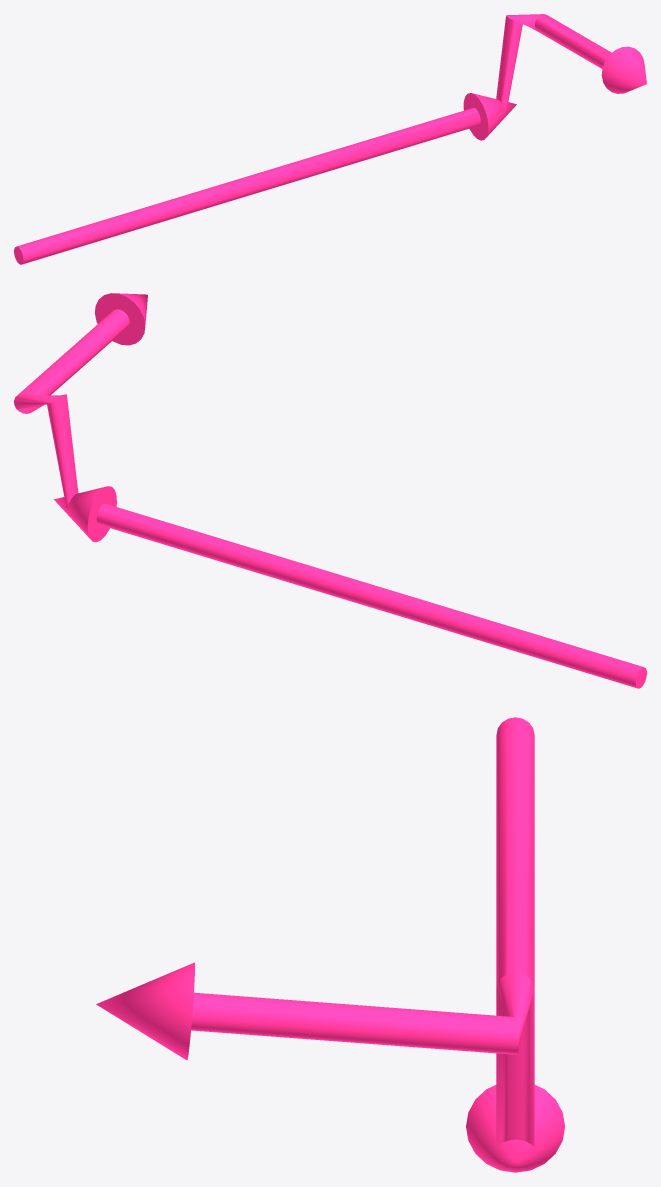
File: torque_limiter_flow.glb
3 renders of one model, top to bottom at view 1: azimuth 30°, elevation 25°; view 2: azimuth 150°, elevation 25°; view 3: azimuth 270°, elevation 25°, orthographic. The views are drawn at different scales.
Visible parts, largest first — view 1: power; view 2: power; view 3: power.
Boxes of the visible parts, left/top/right/bottom form: power: left=14, top=14, right=646, bottom=264; power: left=14, top=293, right=646, bottom=688; power: left=96, top=717, right=564, bottom=1172.
Bounding box in the file's own units: 0.3959 × 0.1028 × 0.1476.
